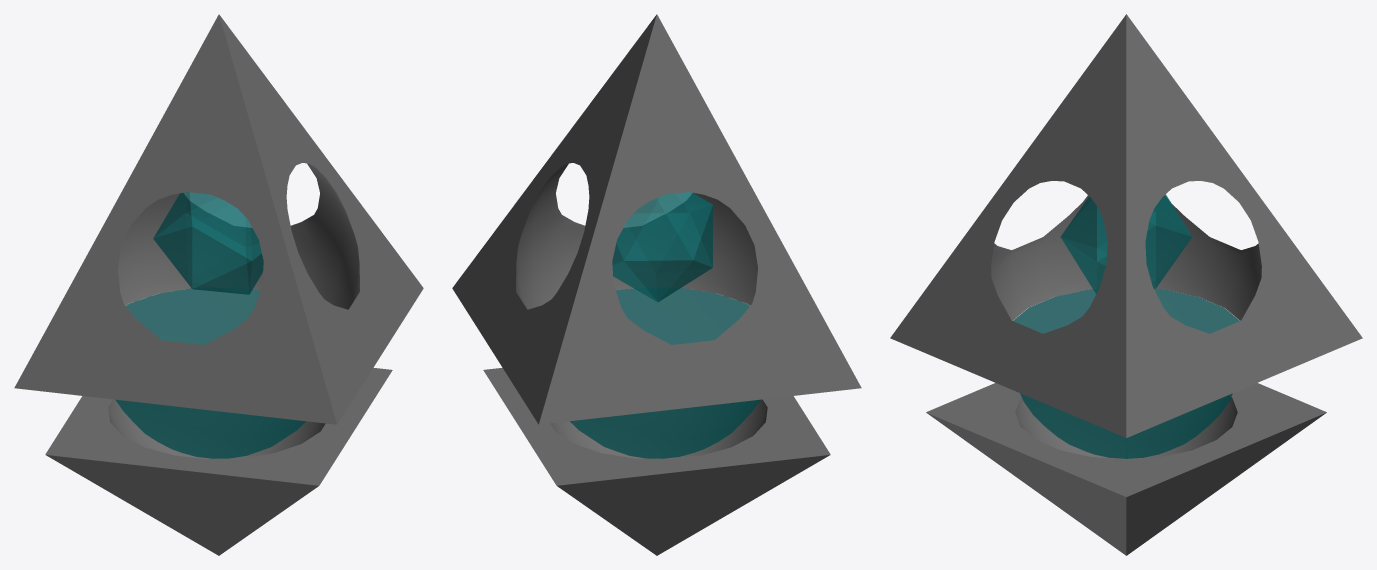
File: enemyAlpha.fbx
The picture shows the model from 3 angles, left to right: view 1: azimuth 30°, elevation 25°; view 2: azimuth 150°, elevation 25°; view 3: azimuth 270°, elevation 25°; orthographic projection.
Parts seen in each view (by area): view 1: pPyramid2, pPyramid4, pSphere5, pPlatonic1; view 2: pPyramid2, pPyramid4, pSphere5, pPlatonic1; view 3: pPyramid2, pPyramid4, pSphere5, pPlatonic1.
Part boxes in pixels (box(x1,y1,x2,y2)): pPyramid2: box(14, 14, 423, 424); pPyramid4: box(45, 367, 392, 555); pSphere5: box(115, 288, 305, 458); pPlatonic1: box(153, 192, 263, 294); pPyramid2: box(452, 14, 861, 424); pPyramid4: box(483, 367, 830, 555); pSphere5: box(570, 288, 760, 458); pPlatonic1: box(612, 192, 712, 302); pPyramid2: box(890, 14, 1362, 437); pPyramid4: box(926, 383, 1326, 555); pSphere5: box(1013, 288, 1239, 458); pPlatonic1: box(1060, 194, 1192, 293).
Size of the model in its own units: 4.3 by 5.44 by 4.3.
